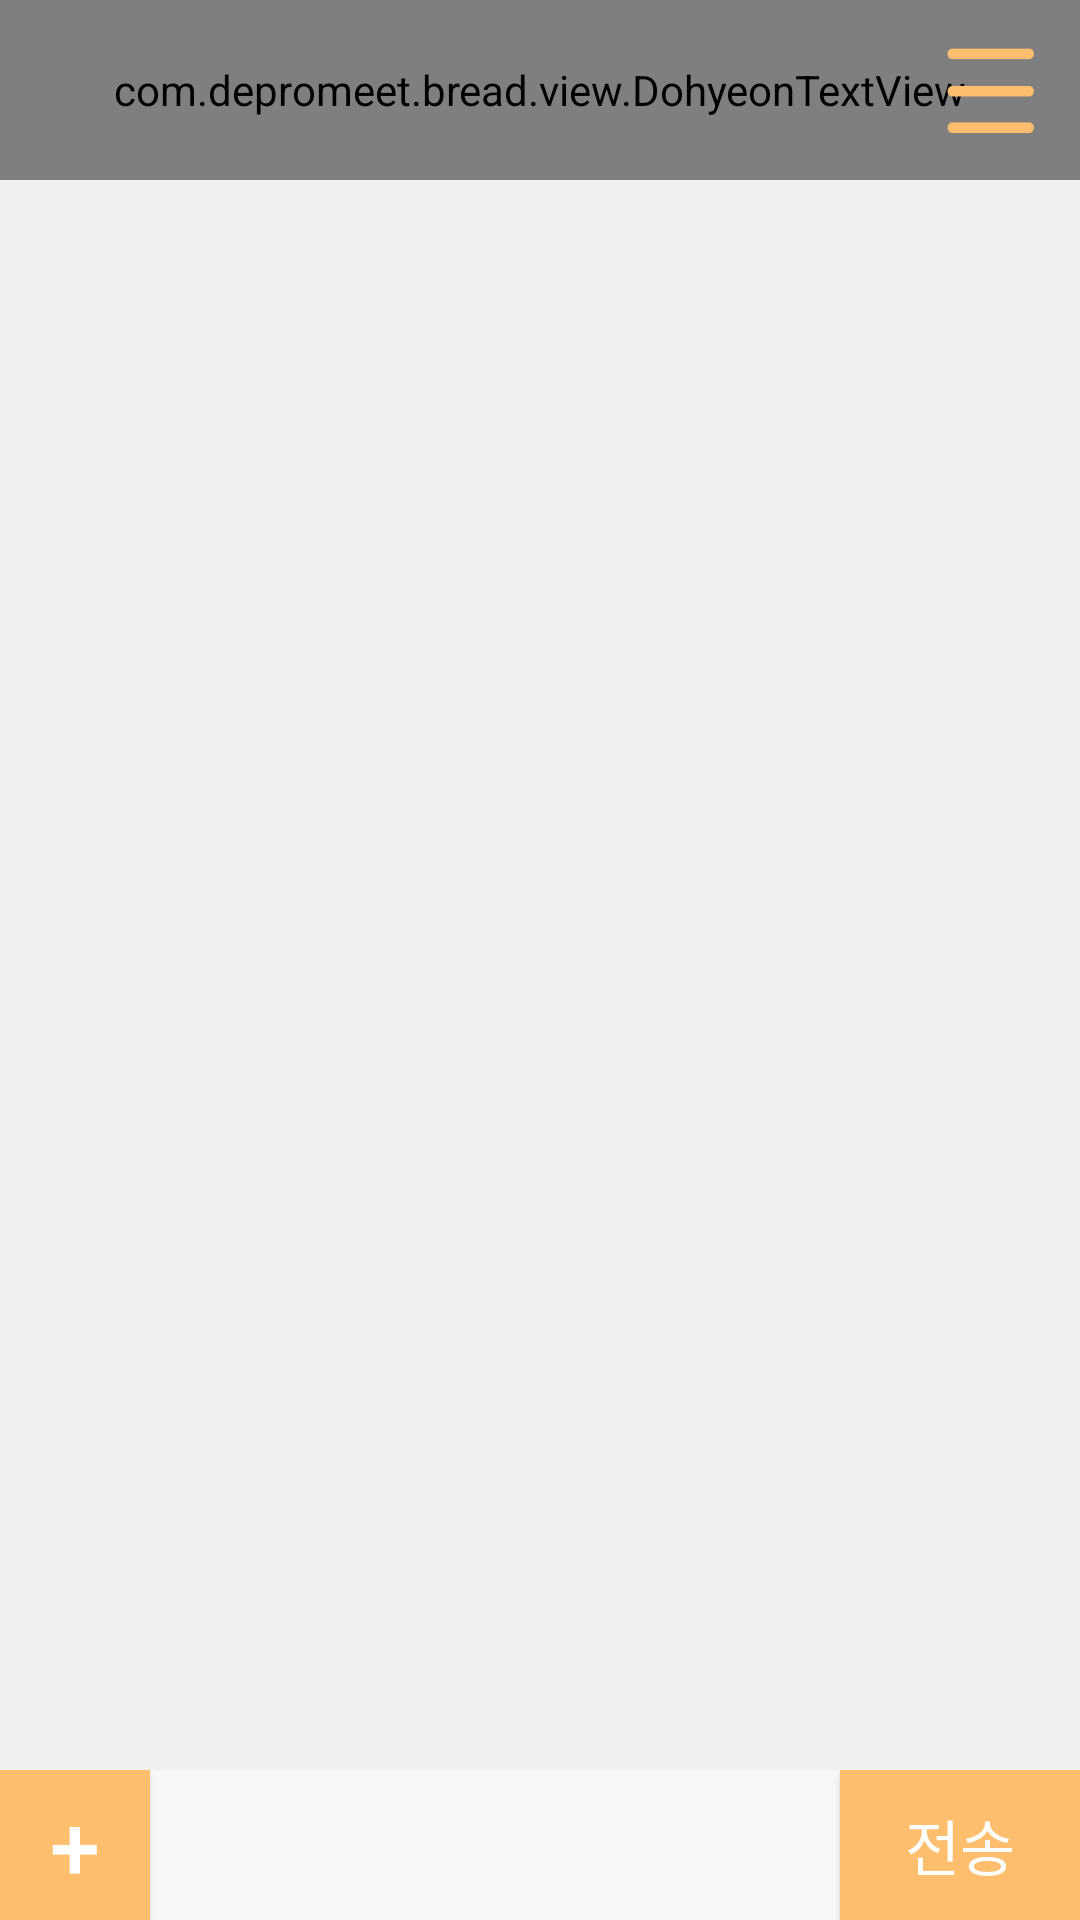

Icon click points for this 1080*1920 phone screenshot, format (x=x, y=y):
burger: (x=984, y=90)
